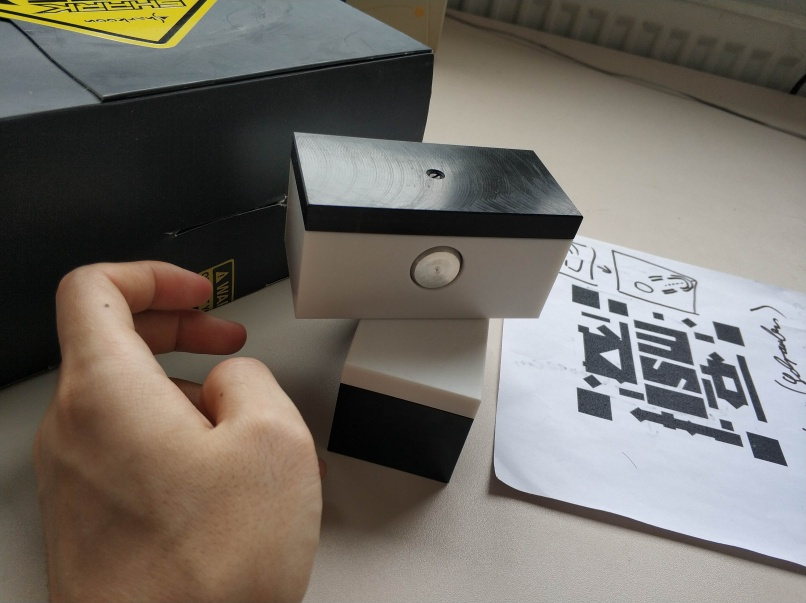black+white+silver: (276, 129, 585, 323)
